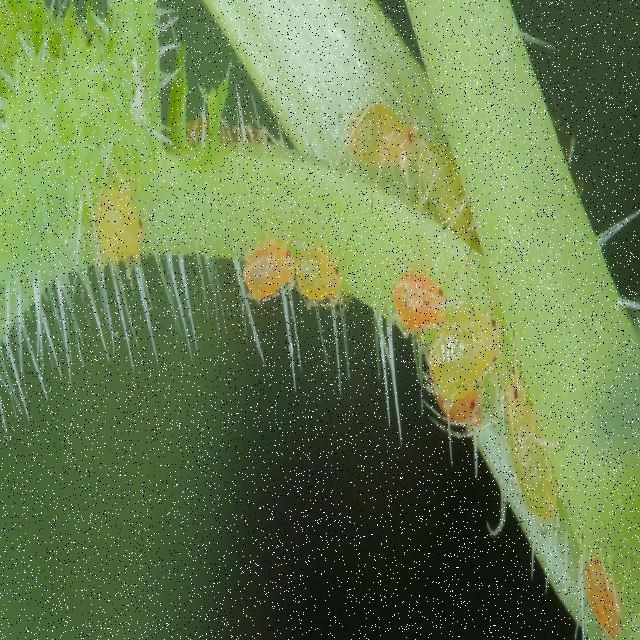Aphids: (217, 163, 306, 380), (421, 291, 503, 445), (283, 219, 346, 377), (373, 235, 449, 344)
